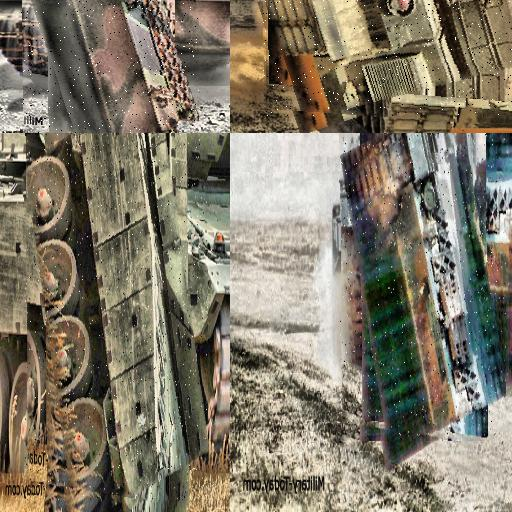tanks: (26, 134, 208, 501), (341, 134, 507, 437), (265, 1, 512, 117), (66, 1, 199, 134)
